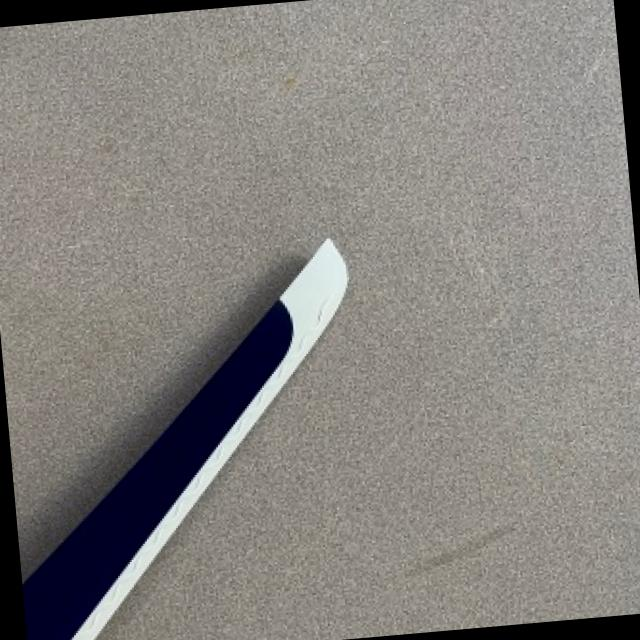healthy: (26, 236, 346, 640)
